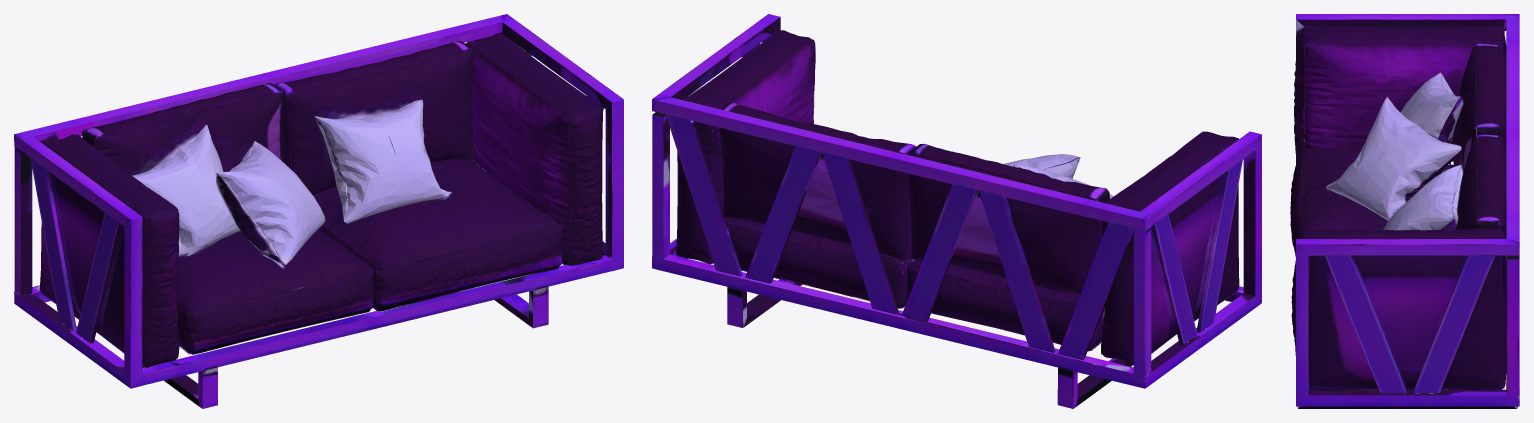
Rendered from edited_mesh.glb.
The picture shows the model from 3 angles, left to right: view 1: azimuth 30°, elevation 25°; view 2: azimuth 150°, elevation 25°; view 3: azimuth 270°, elevation 25°; orthographic projection. The views are drawn at different scales.
Parts seen in each view (by area): view 1: solid_001_wire; view 2: solid_001_wire; view 3: solid_001_wire.
Part boxes in pixels (x1=…): solid_001_wire: x1=14, y1=14, x2=623, y2=408; solid_001_wire: x1=652, y1=14, x2=1261, y2=408; solid_001_wire: x1=1290, y1=14, x2=1519, y2=408.
Size of the model in its own units: 2 by 0.8164 by 0.8409.
Materials: 1 (1 with a texture image).
